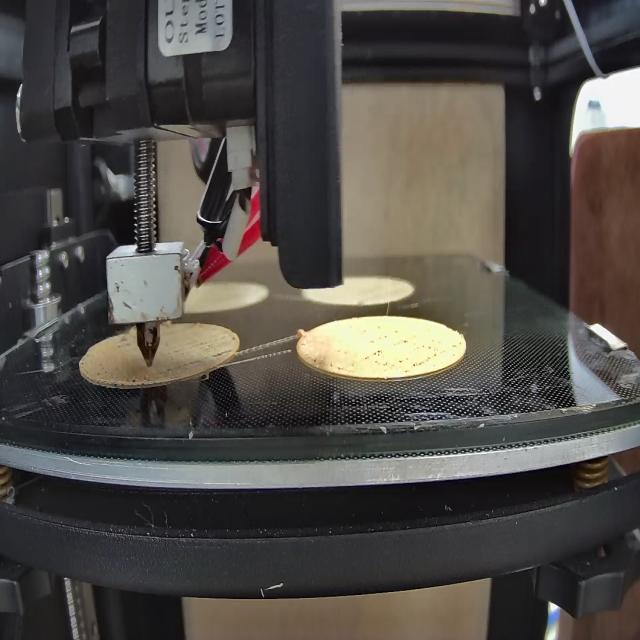under_extrusion: (314, 342, 458, 371), (85, 356, 144, 386), (181, 343, 237, 366)
